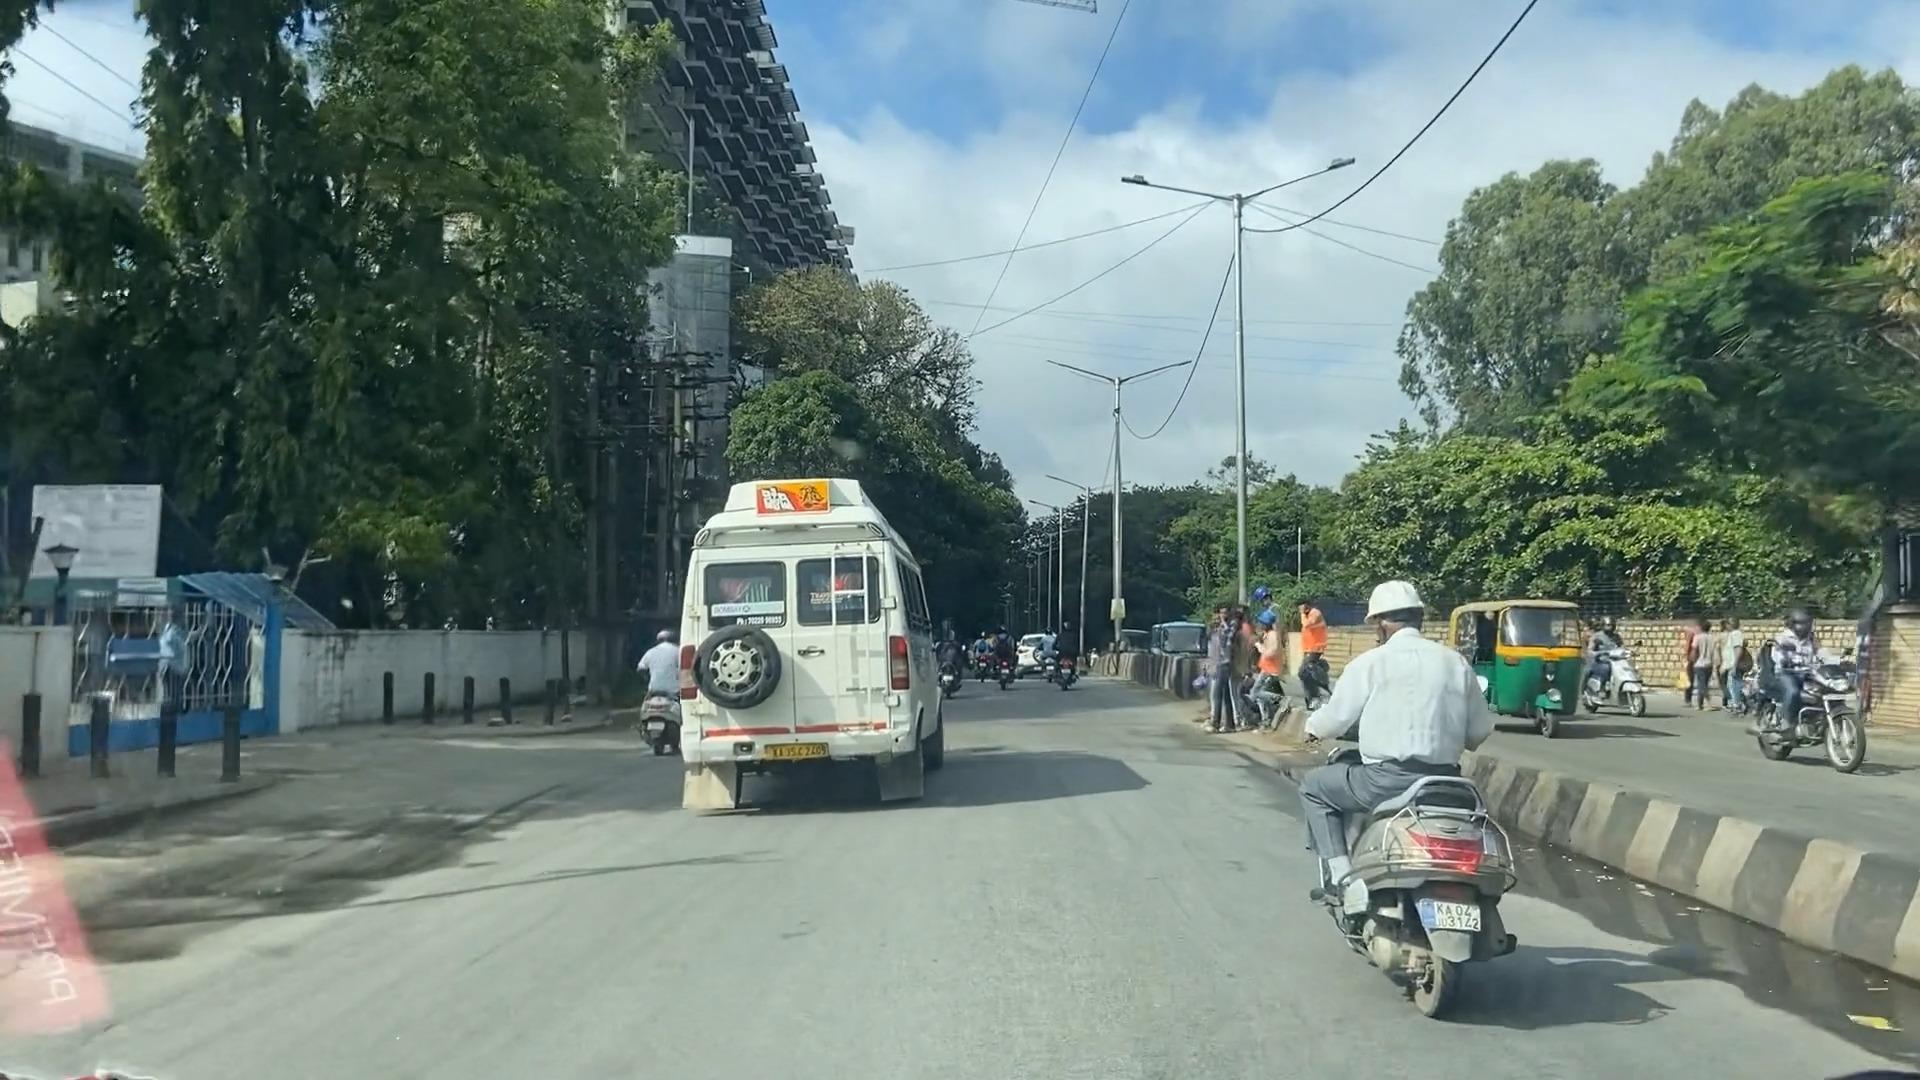HMV: (658, 458, 955, 812)
LMV: (1303, 588, 1503, 1005)
RoadDamages: (75, 808, 417, 1026)
